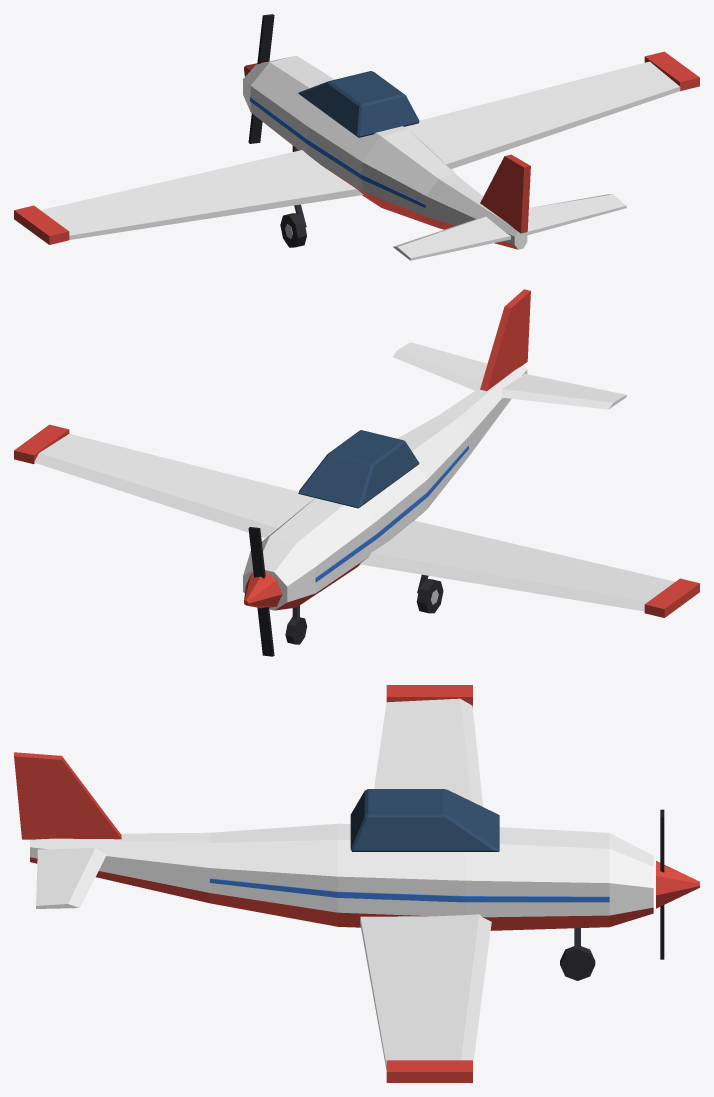
The model's file is Plane_Prop.glb.
3 views of the same model, one above another, from view 1: azimuth 30°, elevation 25°; view 2: azimuth 150°, elevation 25°; view 3: azimuth 270°, elevation 25° (orthographic). The views are drawn at different scales.
Visible parts, largest first — view 1: Plane_Prop_Body, Plane_Prop_Propeller; view 2: Plane_Prop_Body, Plane_Prop_Propeller; view 3: Plane_Prop_Body, Plane_Prop_Propeller.
Part boxes in pixels (x1,y1,x2,y2): Plane_Prop_Body: [14, 51, 699, 260]; Plane_Prop_Propeller: [244, 14, 274, 143]; Plane_Prop_Body: [14, 289, 699, 644]; Plane_Prop_Propeller: [244, 527, 282, 656]; Plane_Prop_Body: [14, 685, 653, 1082]; Plane_Prop_Propeller: [656, 809, 699, 959].
Size of the model in its own units: 11.45 by 3.1 by 8.58.
Materials: 1 (1 with a texture image).
